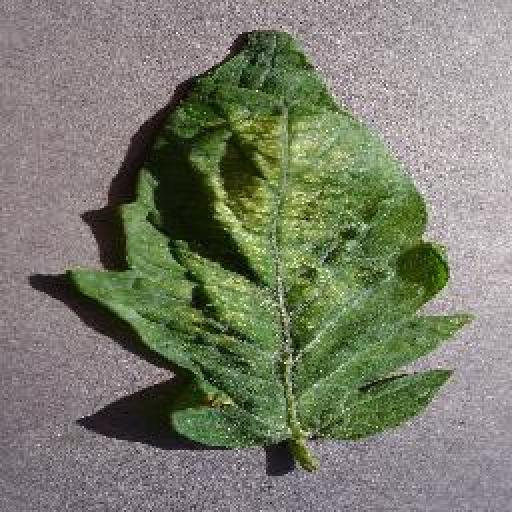disease_tomato: (71, 30, 473, 450)
